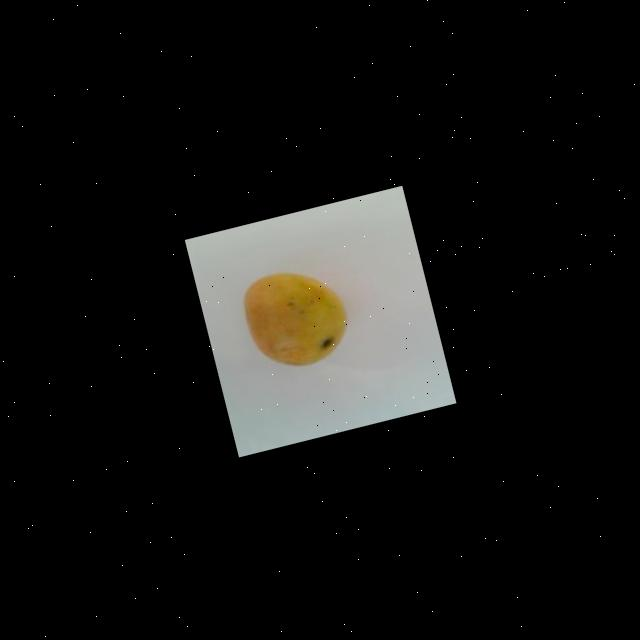Mango: (237, 258, 357, 376)
